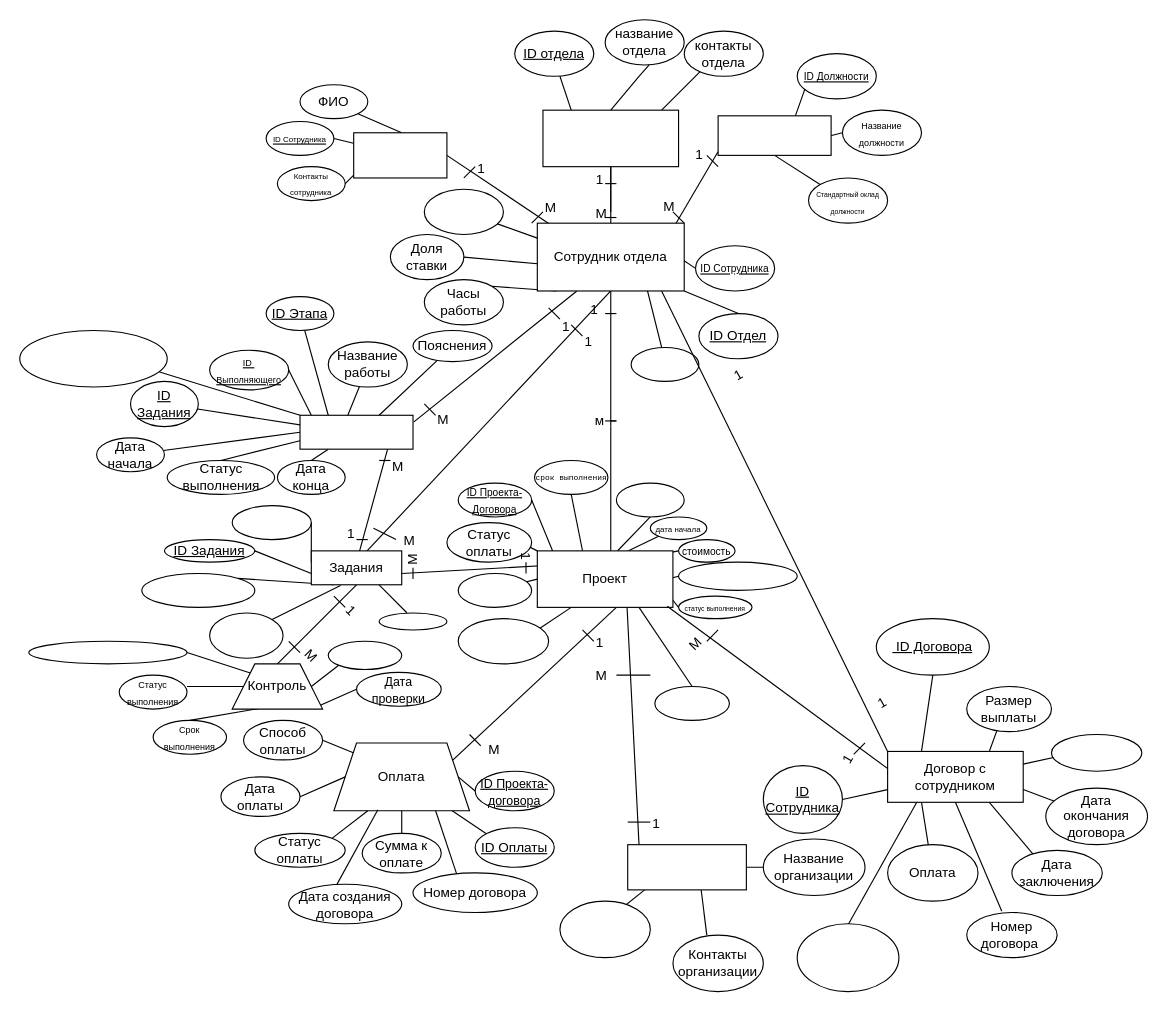
Some shapes in this 1167 by 1011 pixel diagram are drawn without their labels. Each missing label, with the box of its shape:
ID: (423, 188, 503, 234)
ID Организации: (559, 900, 650, 958)
ID Проверяющегося: (28, 640, 187, 664)
ID Проекта: (231, 505, 311, 540)
Дата выплаты: (1050, 733, 1142, 771)
дата завершения: (615, 482, 684, 517)
дата заключения договора: (677, 561, 797, 590)
Должность: (717, 115, 831, 155)
Заказчик: (627, 844, 746, 890)
название: (654, 685, 729, 720)
Названия задания: (141, 572, 255, 607)
Номер телефона контактного лица: (457, 618, 549, 664)
Отдел: (542, 109, 679, 167)
Поощрение за задание: (208, 612, 283, 658)
Причина проверки: (327, 640, 402, 670)
Сотрудник: (353, 132, 447, 178)
Статус: (630, 346, 699, 381)
Статус задания: (378, 612, 447, 630)
Фактическая дата выполнения: (19, 329, 167, 387)
ФИО Контактного лица: (457, 572, 532, 607)
ФИО Сотрудника: (796, 923, 899, 992)
Этап выполнения: (299, 414, 413, 449)
